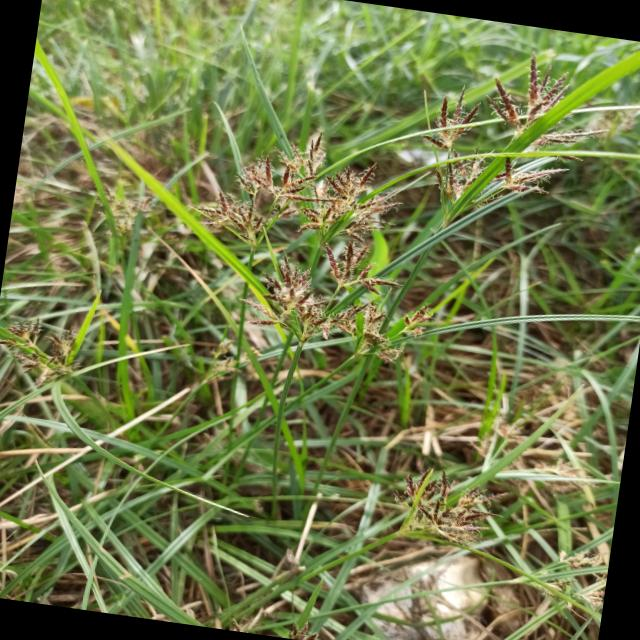cyperus: (185, 122, 452, 372), (403, 46, 613, 224), (190, 120, 404, 250), (257, 236, 444, 361), (386, 458, 502, 566), (0, 312, 91, 393), (81, 178, 160, 245)
